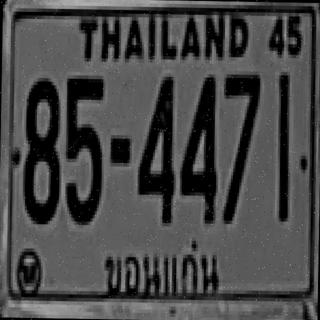N01: (274, 70, 290, 220)
N04: (179, 72, 216, 222), (136, 73, 174, 219)
N05: (64, 75, 102, 222)
N07: (220, 71, 259, 221), (222, 71, 258, 190)
N08: (21, 74, 60, 221)
P18: (100, 236, 225, 299)
